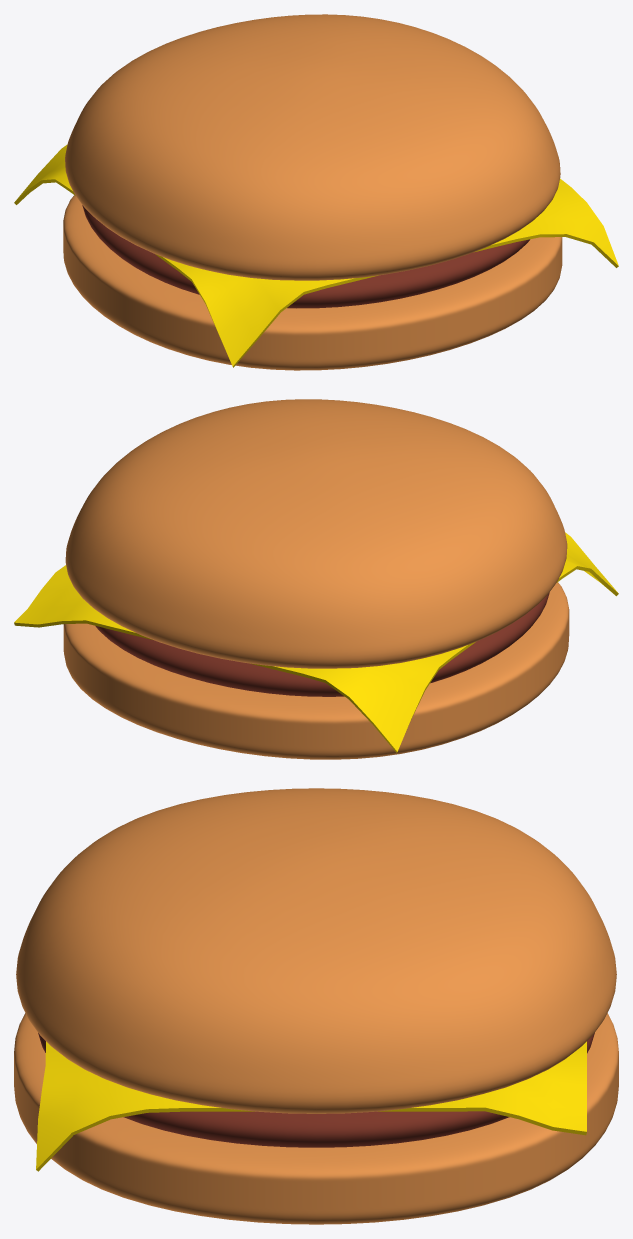
File: hamburger.glb
3 renders of one model, top to bottom at view 1: azimuth 30°, elevation 25°; view 2: azimuth 150°, elevation 25°; view 3: azimuth 270°, elevation 25°, orthographic. The views are drawn at different scales.
Visible parts, largest first — view 1: Cube.002, Cube, Plane, Cube.001; view 2: Cube.002, Cube, Plane, Cube.001; view 3: Cube.002, Cube, Plane, Cube.001.
Part boxes in pixels (x1,y1,x2,y2): Cube.002: (65, 14, 560, 280); Cube: (63, 195, 562, 370); Plane: (14, 144, 618, 367); Cube.001: (82, 205, 529, 308); Cube.002: (65, 399, 567, 668); Cube: (63, 582, 569, 759); Plane: (14, 532, 618, 752); Cube.001: (95, 592, 549, 696); Cube.002: (16, 788, 616, 1113); Cube: (14, 1013, 618, 1224); Plane: (36, 1041, 586, 1171); Cube.001: (38, 1033, 594, 1147).
Bounding box in the file's own units: 0.9002 × 0.4447 × 0.9002.
